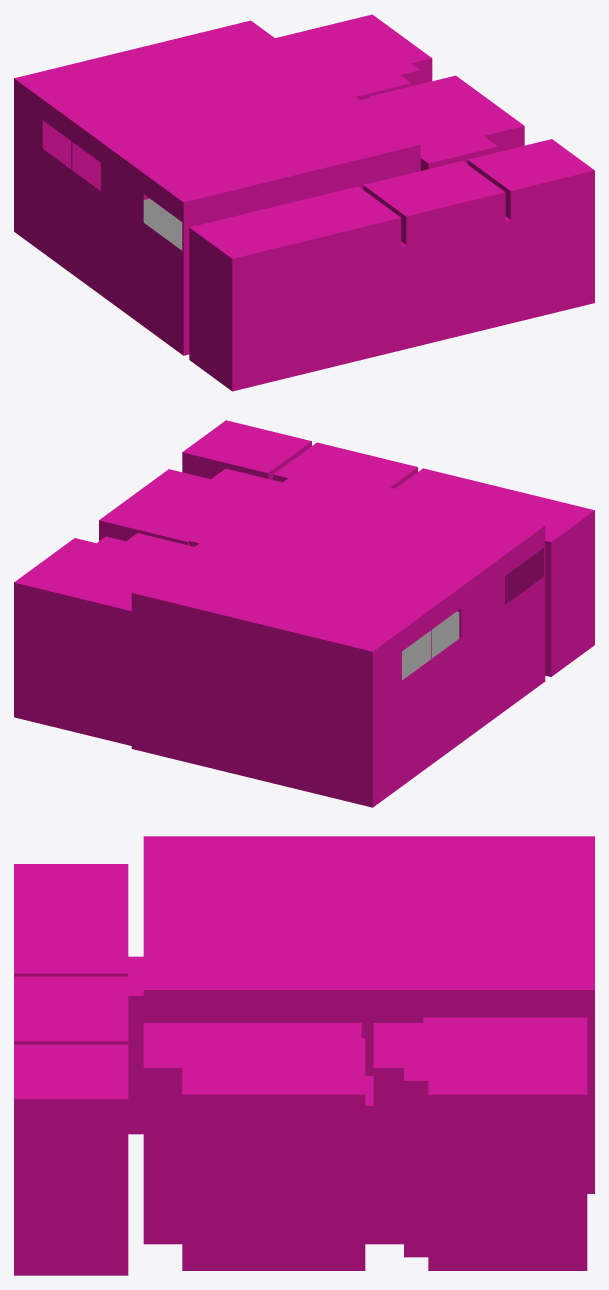
Rendered from GR4DIONICA2.fbx.
3 views of the same model, one above another, from view 1: azimuth 30°, elevation 25°; view 2: azimuth 150°, elevation 25°; view 3: azimuth 270°, elevation 25° (orthographic). The views are drawn at different scales.
Parts seen in each view (by area): view 1: Plane; view 2: Plane; view 3: Plane.
Boxes of the visible parts, <box> form: Plane: <box>14,14,594,391</box>; Plane: <box>14,420,594,807</box>; Plane: <box>14,836,594,1275</box>.
Bounding box in the file's own units: 730 × 295 × 762.
